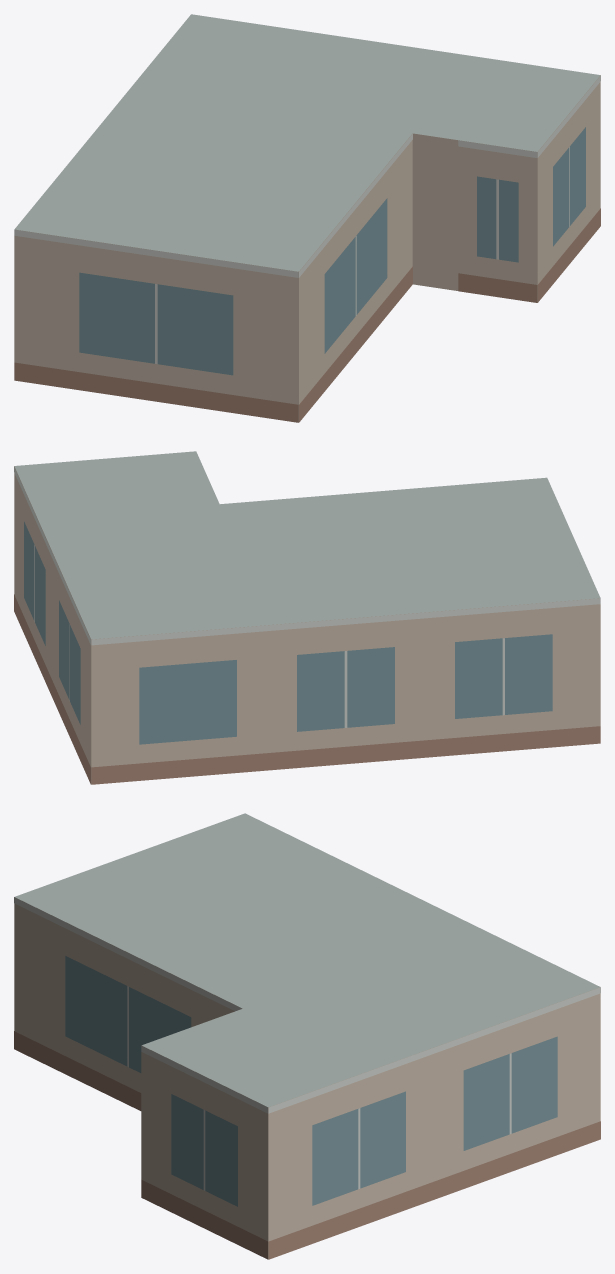
File: survey-upis-32533705.glb
3 views of the same model, one above another, from view 1: azimuth 30°, elevation 25°; view 2: azimuth 150°, elevation 25°; view 3: azimuth 270°, elevation 25° (orthographic). The views are drawn at different scales.
Parts seen in each view (by area): view 1: survey-upis-32533705.tmp; view 2: survey-upis-32533705.tmp; view 3: survey-upis-32533705.tmp.
Part boxes in pixels (<box>): survey-upis-32533705.tmp: <box>14,14,600,422</box>; survey-upis-32533705.tmp: <box>14,451,600,784</box>; survey-upis-32533705.tmp: <box>14,813,600,1259</box>.
Bounding box in the file's own units: 12.65 × 3.05 × 10.66.
